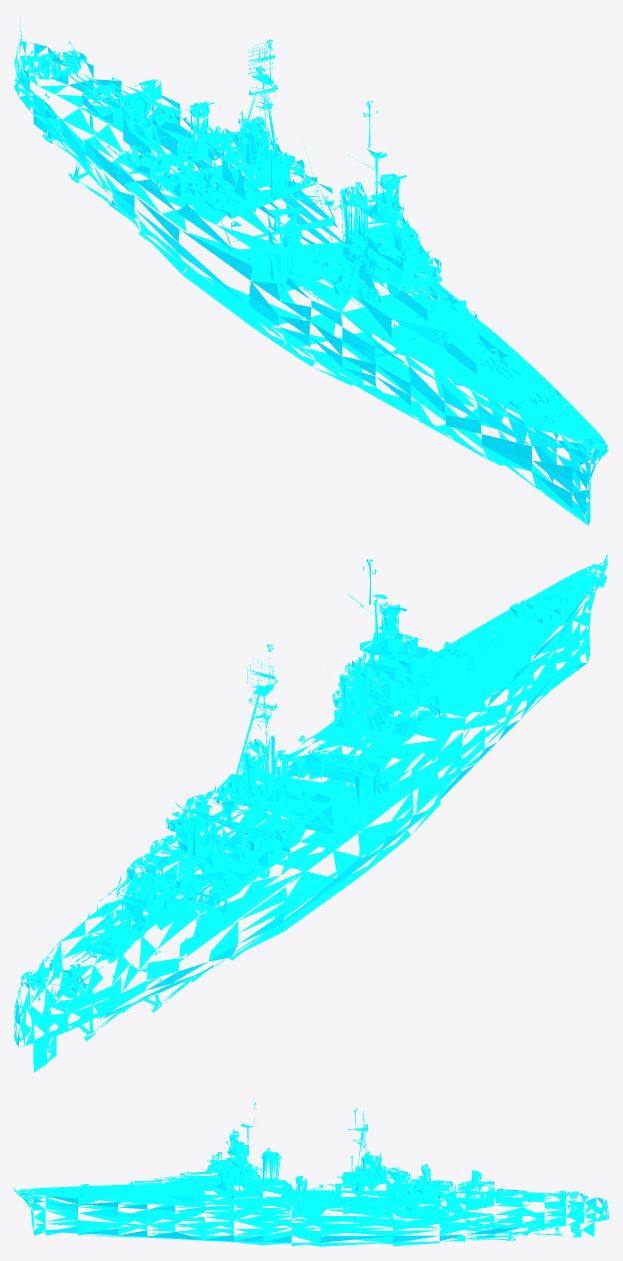
The model's file is Indianapolis.glb.
The picture shows the model from 3 angles, top to bottom: view 1: azimuth 30°, elevation 25°; view 2: azimuth 150°, elevation 25°; view 3: azimuth 270°, elevation 25°; orthographic projection. The views are drawn at different scales.
Size of the model in its own units: 1.4 by 3.12 by 12.39.
